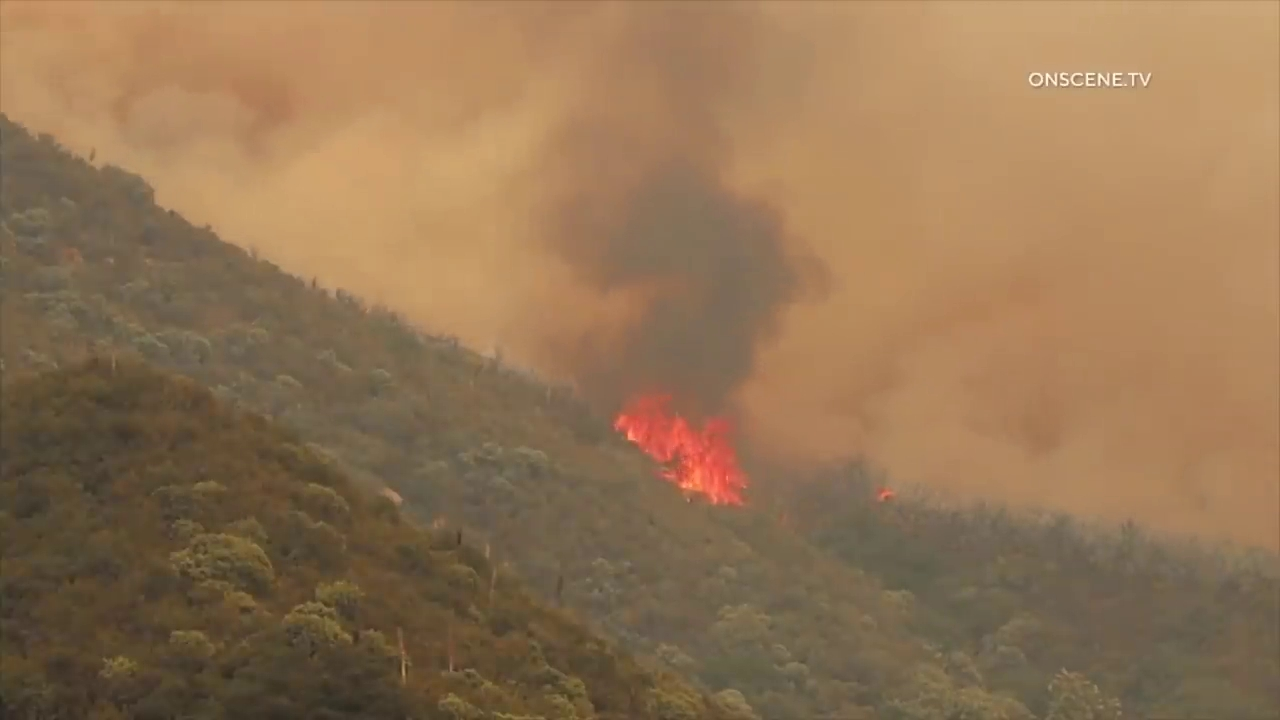forest_fire: (615, 393, 745, 505)
